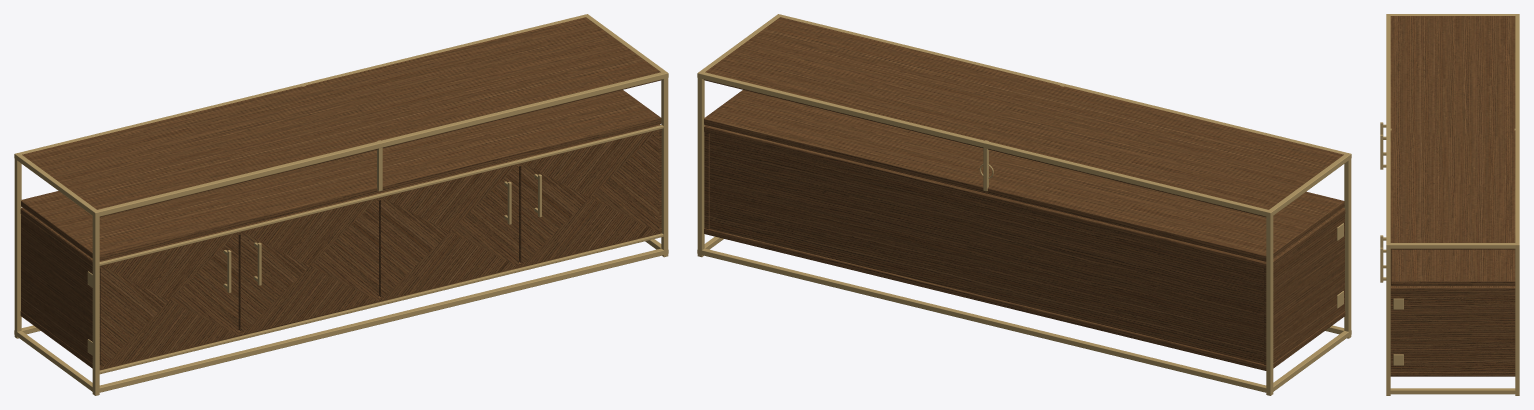
3 views of the same model, side by side, from view 1: azimuth 30°, elevation 25°; view 2: azimuth 150°, elevation 25°; view 3: azimuth 270°, elevation 25° (orthographic). The views are drawn at different scales.
Parts seen in each view (by area): view 1: SIENNA LV446-L31 | LV446-L31-01 optimized, TV unit door 4 hinge pivot optimized, TV unit door 2 hinge pivot optimized, TV unit door 1 hinge pivot optimized, TV unit door 3 hinge pivot optimized; view 2: SIENNA LV446-L31 | LV446-L31-01 optimized; view 3: SIENNA LV446-L31 | LV446-L31-01 optimized, TV unit door 4 hinge pivot optimized, TV unit door 2 hinge pivot optimized.
Part boxes in pixels (x1,y1,x2,y2): SIENNA LV446-L31 | LV446-L31-01 optimized: [14, 14, 668, 395]; TV unit door 4 hinge pivot optimized: [519, 129, 659, 266]; TV unit door 2 hinge pivot optimized: [238, 198, 378, 334]; TV unit door 1 hinge pivot optimized: [87, 232, 238, 368]; TV unit door 3 hinge pivot optimized: [379, 164, 518, 300]; SIENNA LV446-L31 | LV446-L31-01 optimized: [697, 14, 1351, 395]; SIENNA LV446-L31 | LV446-L31-01 optimized: [1386, 14, 1519, 395]; TV unit door 4 hinge pivot optimized: [1380, 247, 1403, 365]; TV unit door 2 hinge pivot optimized: [1380, 134, 1386, 169].
Size of the model in its own units: 1.8 by 0.55 by 0.46.
3 materials, 2 textured.
